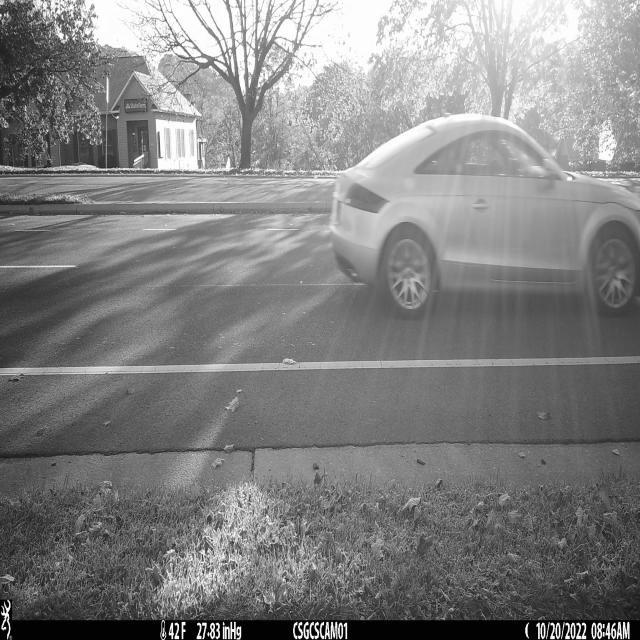Garbage Truck: (330, 113, 640, 320)
